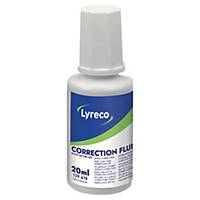Correction_fluid: (63, 3, 136, 197)
